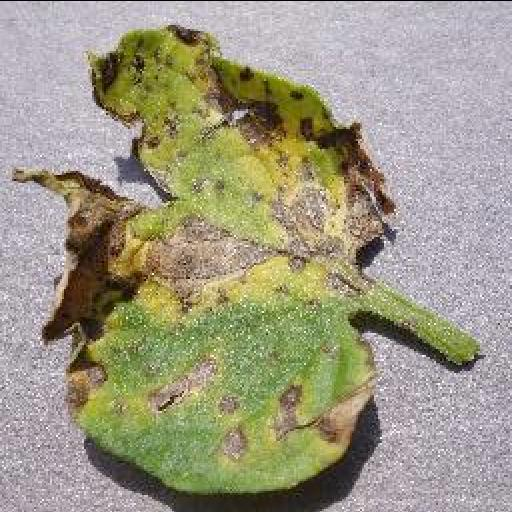disease_tomato: (10, 24, 396, 490)
